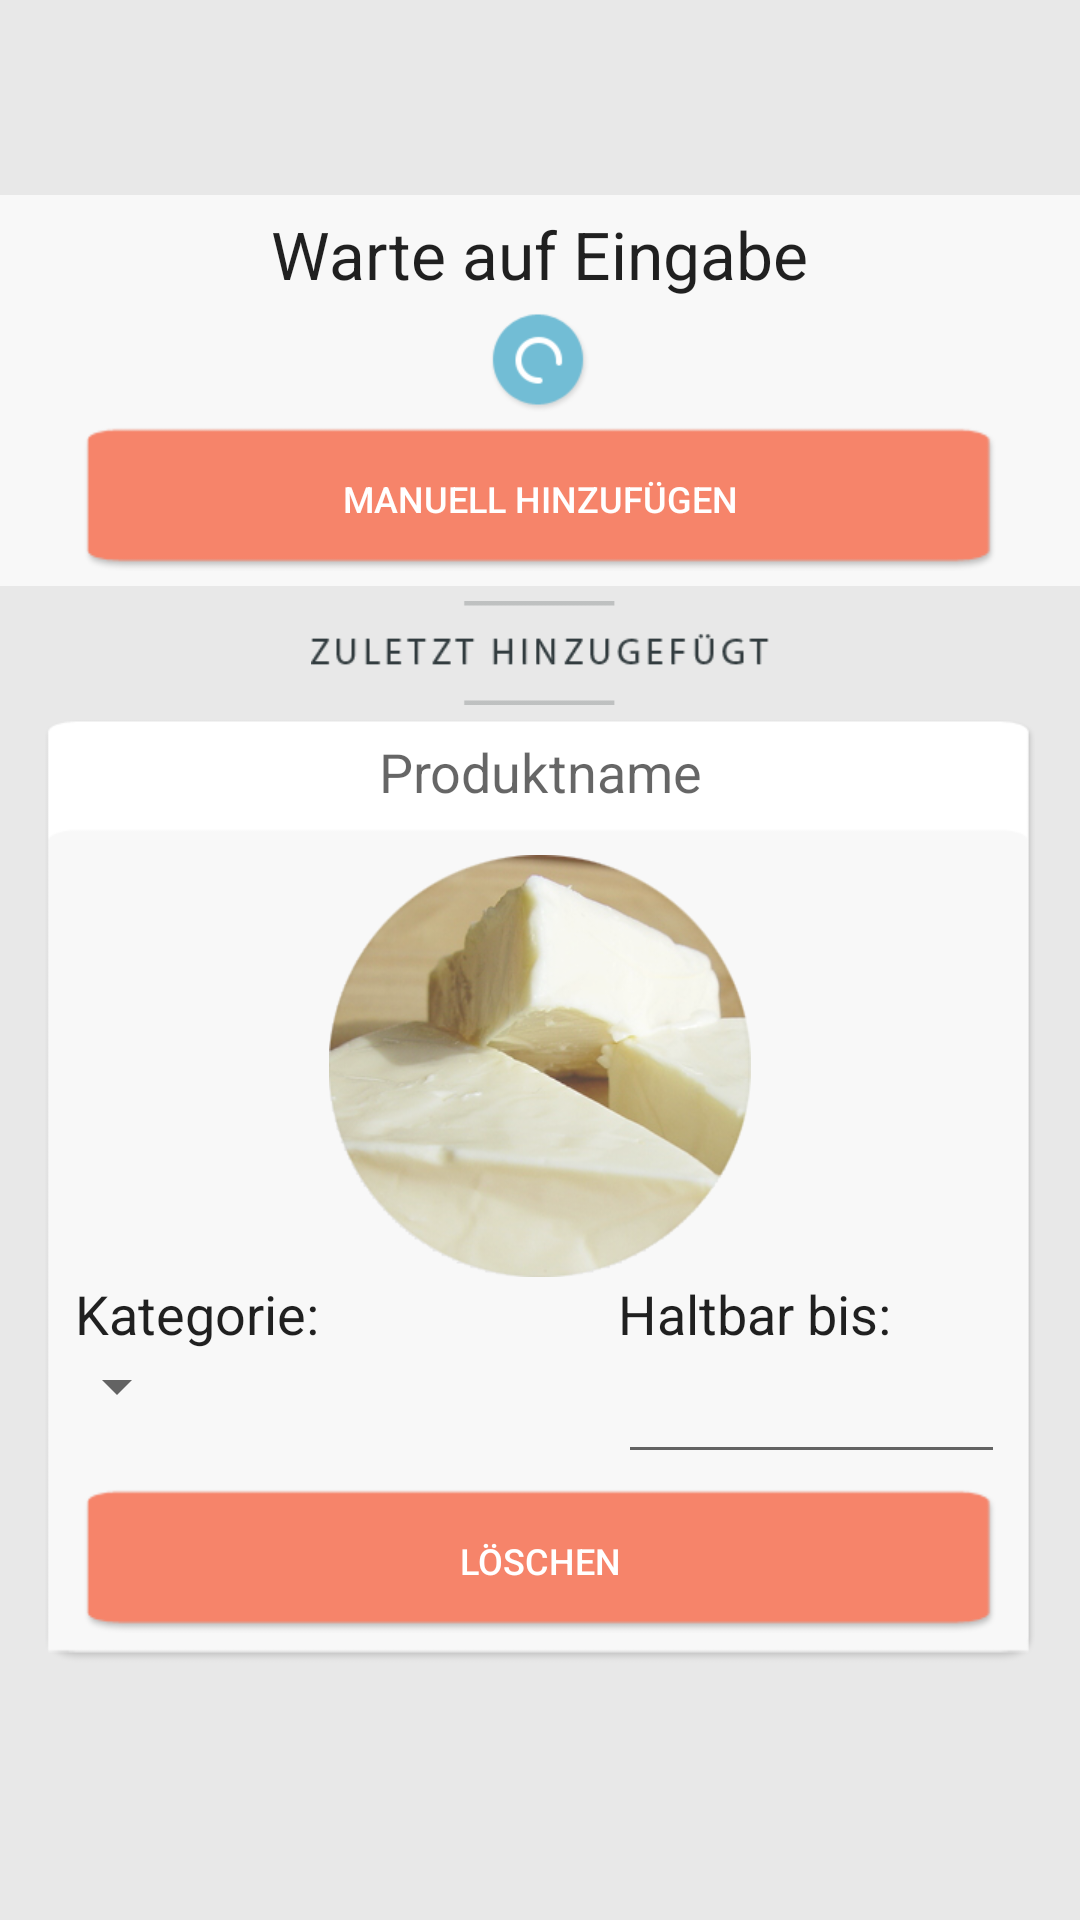

Named icons in this screenshot (1080x1920) and their centers, point (x, y):
load: point (538, 360)
